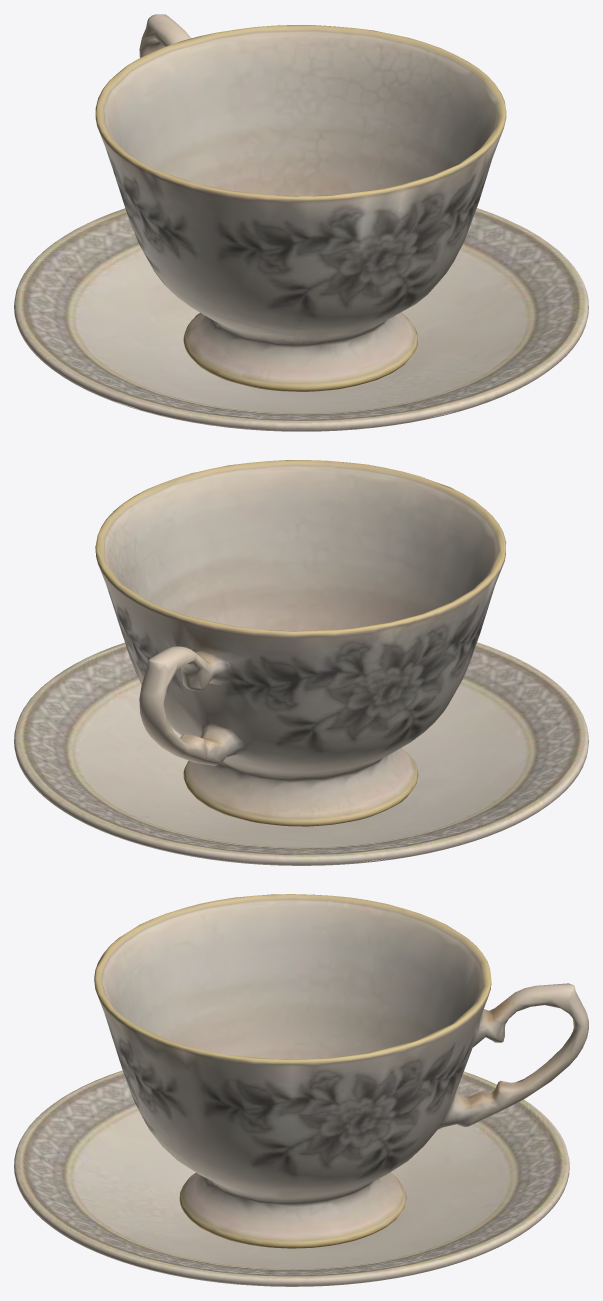
Rendered from tasse.gltf.
3 renders of one model, top to bottom at view 1: azimuth 30°, elevation 25°; view 2: azimuth 150°, elevation 25°; view 3: azimuth 270°, elevation 25°, orthographic. The views are drawn at different scales.
Parts seen in each view (by area): view 1: tea_cup, tea_saucer; view 2: tea_cup, tea_saucer; view 3: tea_cup, tea_saucer.
Part boxes in pixels (left/top/right/bottom): tea_cup: left=95, top=14, right=506, bottom=391; tea_saucer: left=14, top=208, right=588, bottom=431; tea_cup: left=95, top=460, right=506, bottom=826; tea_saucer: left=14, top=642, right=588, bottom=865; tea_cup: left=94, top=894, right=588, bottom=1248; tea_saucer: left=14, top=1070, right=569, bottom=1286.
Size of the model in its own units: 0.1486 by 0.0704 by 0.1537.
Materials: 2 (2 with a texture image).
